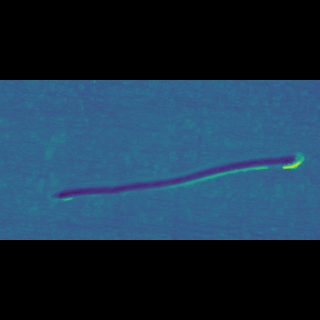Loch: (45, 154, 306, 181)
